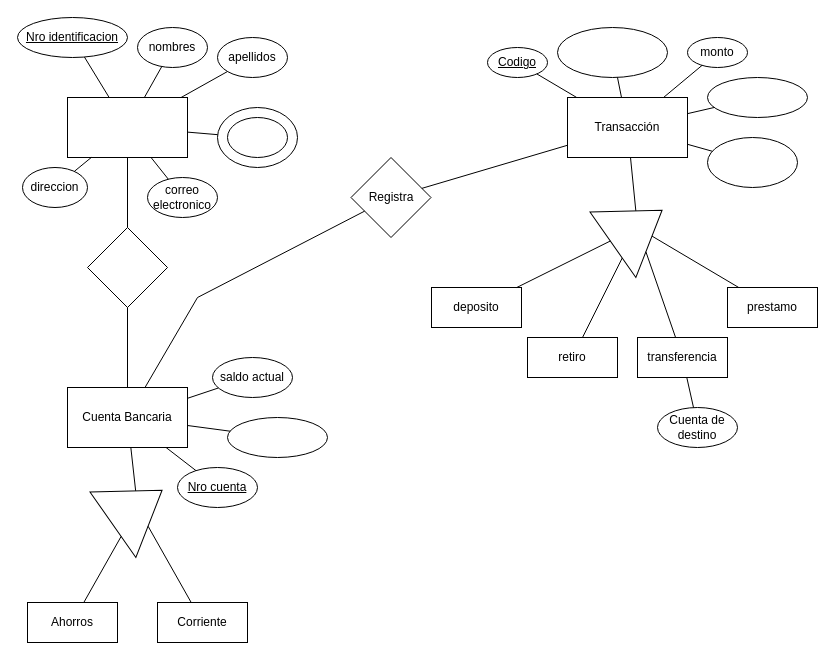
Some shapes in this 835 by 660 pixel diagram are drawn without their labels. The shapes that lost their labels are listed below. From the top down, each one's centre as x and y in pixels, then its label:
At (x=612, y=52): "fecha y hora de ejecucion".
At (x=757, y=97): "Cuenta asociada".
At (x=127, y=127): "Cliente".
At (x=257, y=137): "telefonos".
At (x=752, y=162): "Saldo restante".
At (x=637, y=227): "de tipo".
At (x=127, y=267): "Pertenece".
At (x=277, y=437): "fecha_apertura".
At (x=137, y=507): "es".
